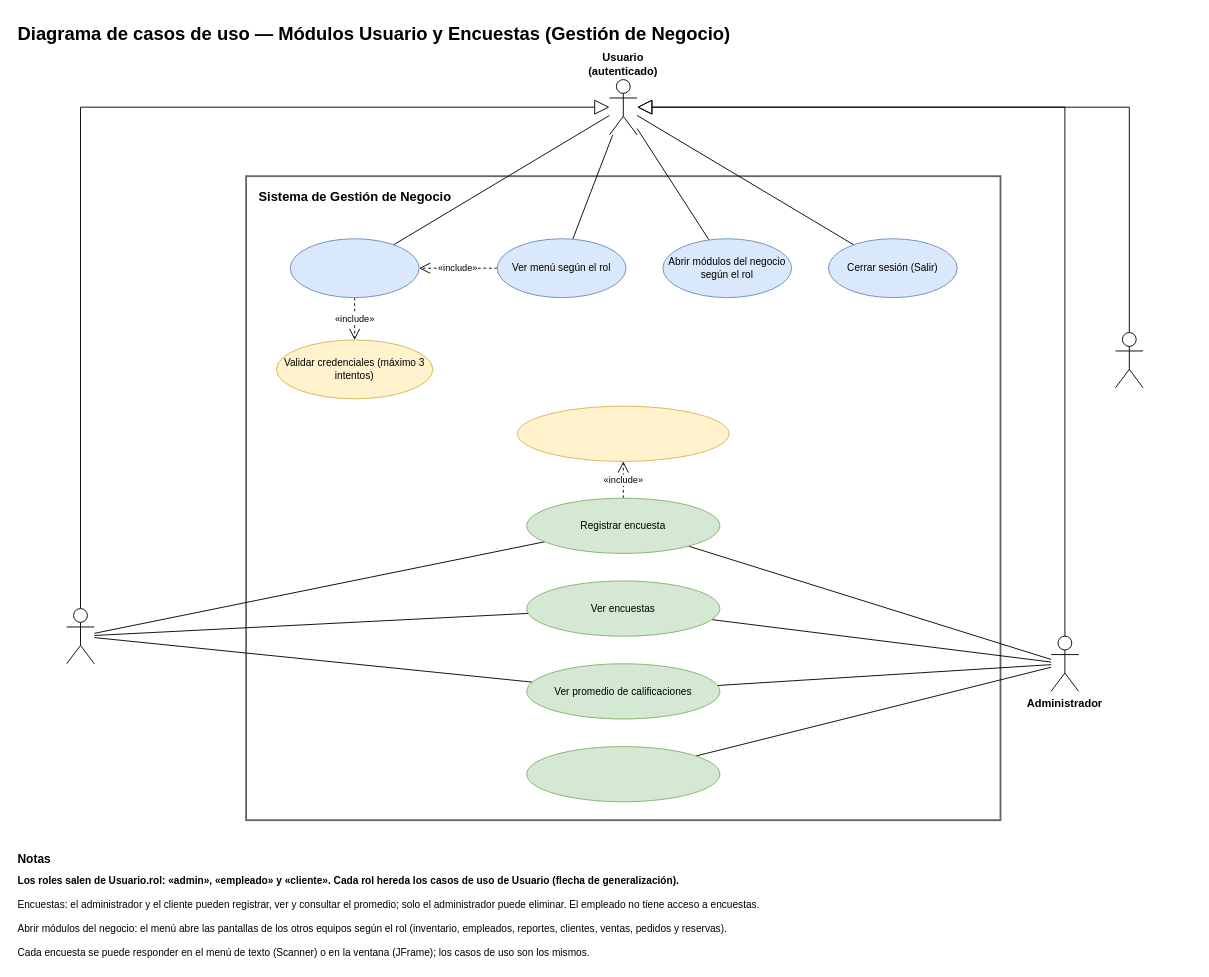
Image size: 1209x977. Some labels were removed from this diagram. Each missing label, with the box of its shape:
Cliente: (66, 608, 94, 664)
Eliminar encuesta: (526, 746, 720, 802)
Empleado: (1115, 332, 1143, 388)
Iniciar sesión: (289, 238, 419, 298)
Validar cliente, calificación y comentario: (517, 405, 729, 461)
